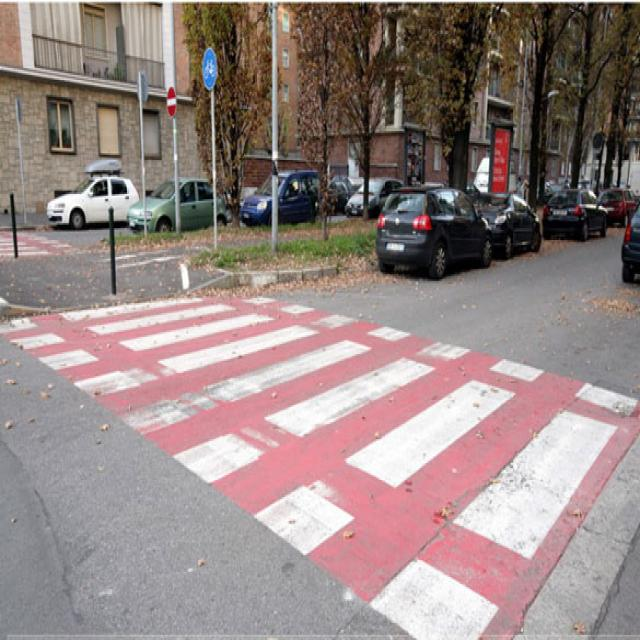Pedestrian crosswalk: (52, 286, 632, 591)
